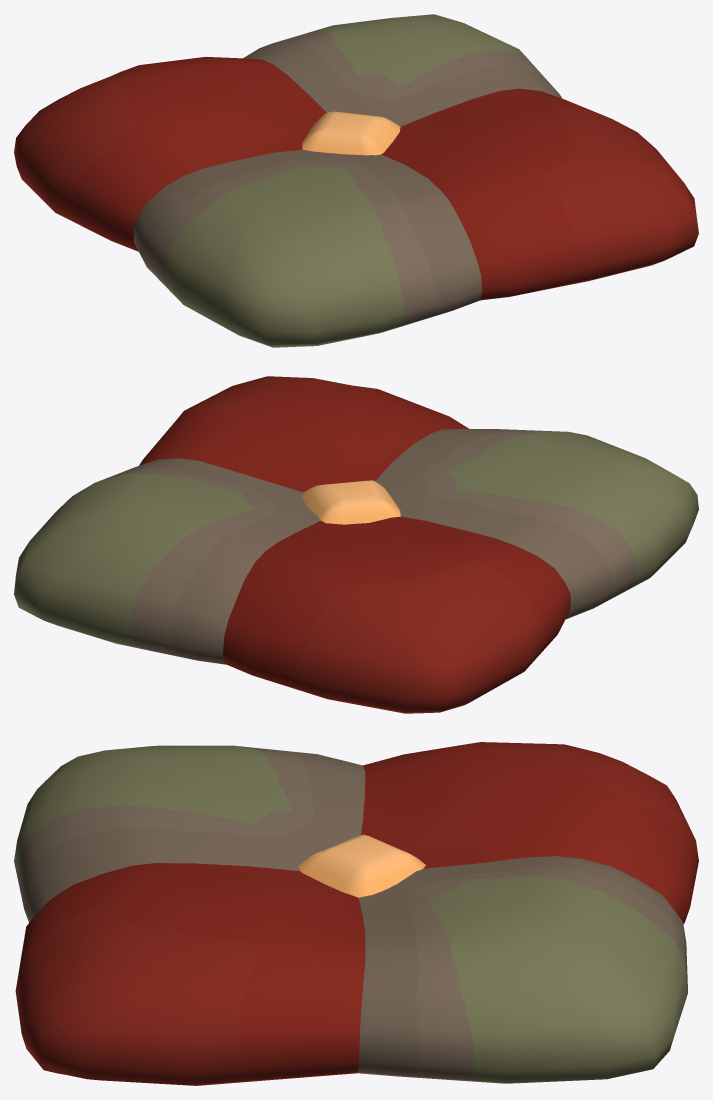
File: Prop_WinterPillow_01.glb
3 renders of one model, top to bottom at view 1: azimuth 30°, elevation 25°; view 2: azimuth 150°, elevation 25°; view 3: azimuth 270°, elevation 25°, orthographic. The views are drawn at different scales.
Visible parts, largest first — view 1: Prop_WinterPillow_01; view 2: Prop_WinterPillow_01; view 3: Prop_WinterPillow_01.
Boxes of the visible parts, x1,y1,x2,y2 form: Prop_WinterPillow_01: (14, 14, 698, 347); Prop_WinterPillow_01: (14, 376, 698, 713); Prop_WinterPillow_01: (14, 742, 698, 1085).
Size of the model in its own units: 6.96 by 1.34 by 7.08.
1 material, 1 textured.
